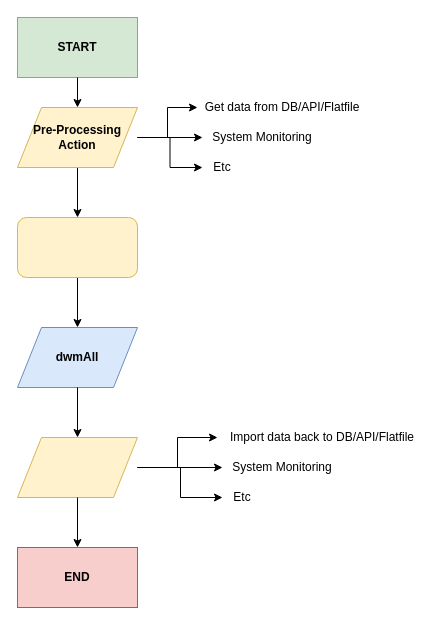
Some shapes in this 445 by 625 pixel diagram are drawn without their labels. The shapes that lost their labels are listed below. From the top down, each one's centre as x and y in pixels, then its label:
(77,247): Connect to MongoDB
(77,467): Post-Processing Action
